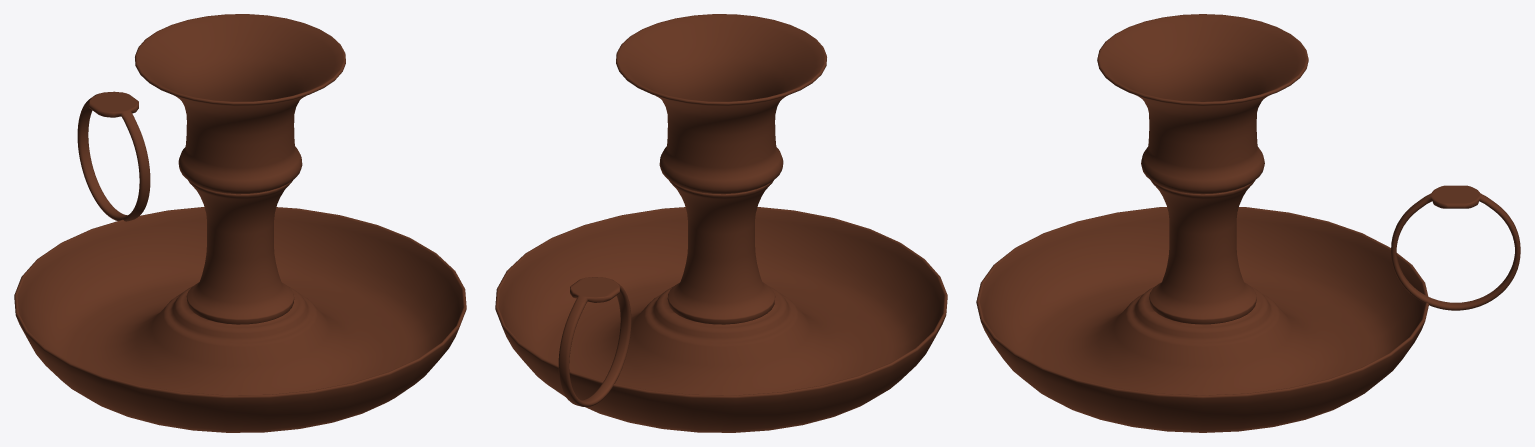
The model's file is candle_right__material_003.obj.
3 views of the same model, side by side, from view 1: azimuth 30°, elevation 25°; view 2: azimuth 150°, elevation 25°; view 3: azimuth 270°, elevation 25° (orthographic).
Visible parts, largest first — view 1: Export_Circle.004; view 2: Export_Circle.004; view 3: Export_Circle.004.
Part boxes in pixels (box(x1,y1,x2,y2)): Export_Circle.004: box(14, 14, 466, 432); Export_Circle.004: box(495, 14, 947, 432); Export_Circle.004: box(976, 14, 1520, 432).
Size of the model in its own units: 3.47 by 2.51 by 4.17.
